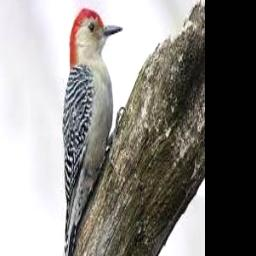Woodpecker: (51, 8, 122, 256)
